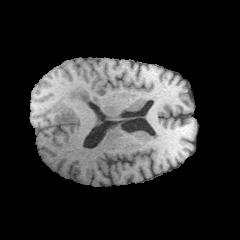glioma: (49, 82, 110, 125)
